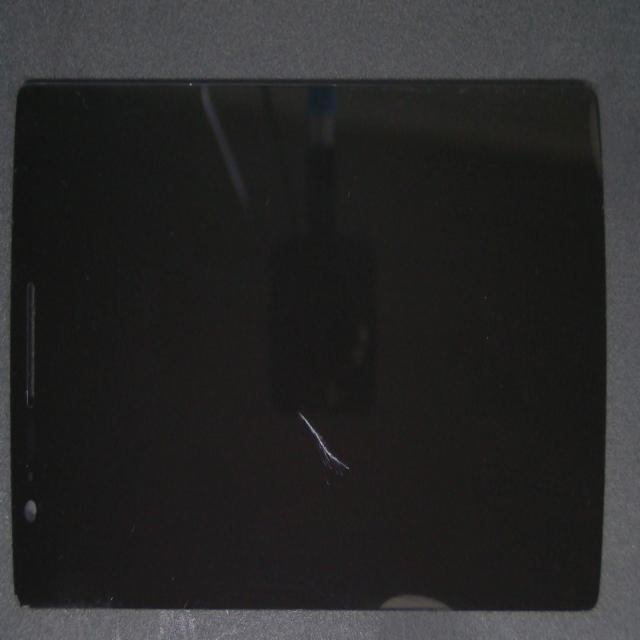scratch: (118, 167, 453, 640)
